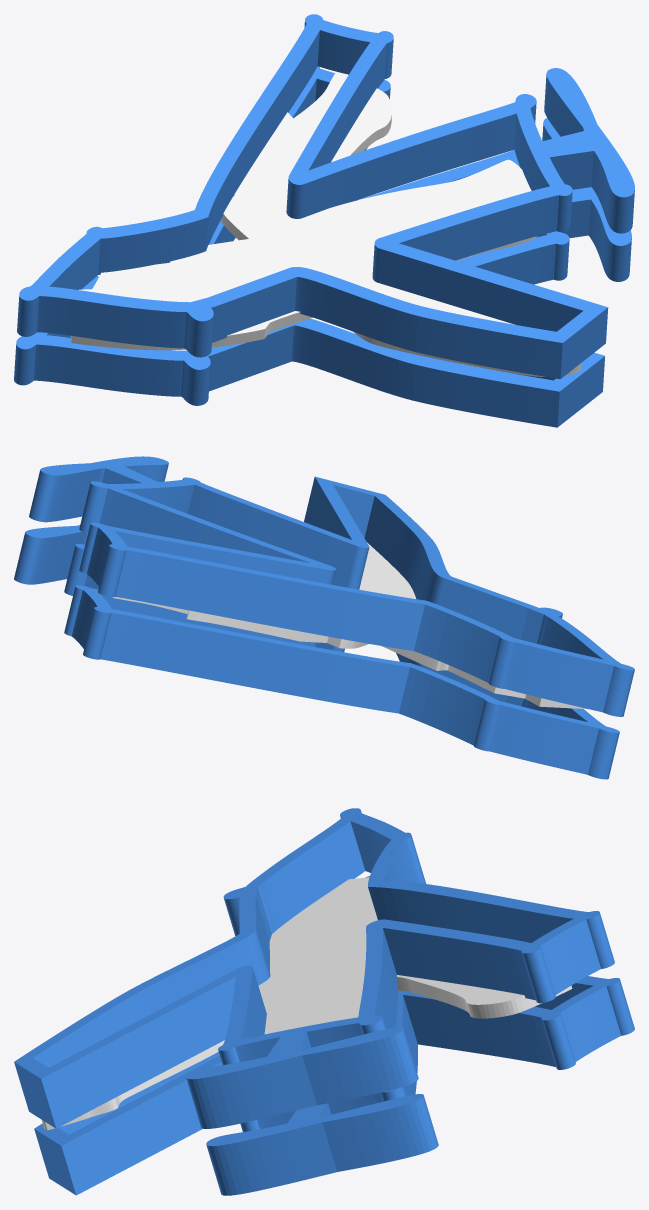
3 views of the same model, one above another, from view 1: azimuth 30°, elevation 25°; view 2: azimuth 150°, elevation 25°; view 3: azimuth 270°, elevation 25° (orthographic). The views are drawn at different scales.
Parts seen in each view (by area): view 1: 23; view 2: 23; view 3: 23.
Boxes of the visible parts, <box> form: 23: <box>14,14,634,427</box>; 23: <box>14,456,634,779</box>; 23: <box>14,808,634,1195</box>.
Bounding box in the file's own units: 2.03 × 0.7887 × 1.68.
